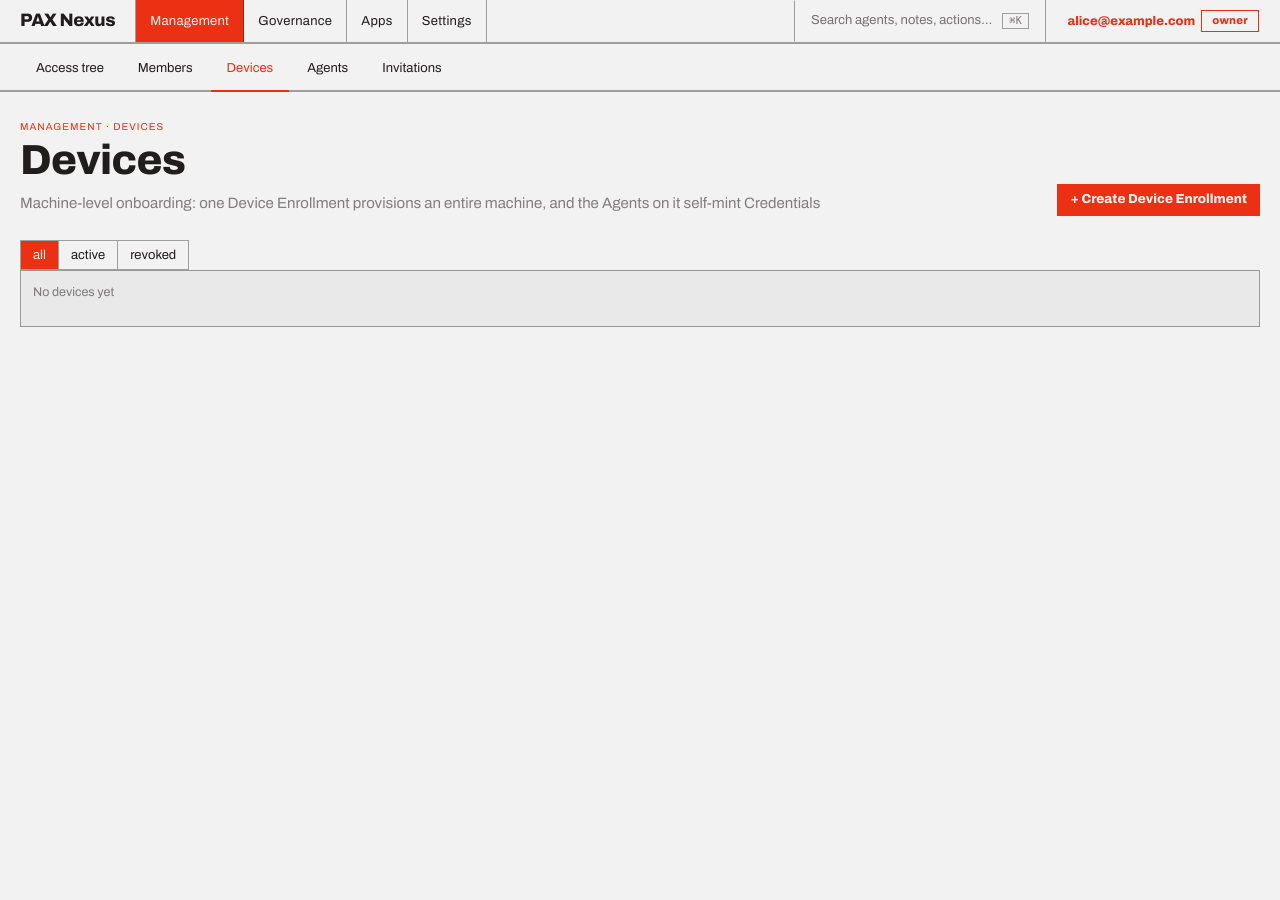
Test: Devices list + device enrollment creation › rejects an empty device_name locally without issuing a request
The image size is (1280, 900).
What coordinates should you click on to do the following:
click the button "+ Create Device Enrollment"
I would click on:
 (1159, 200)
Its box is [1058,184,1260,216].
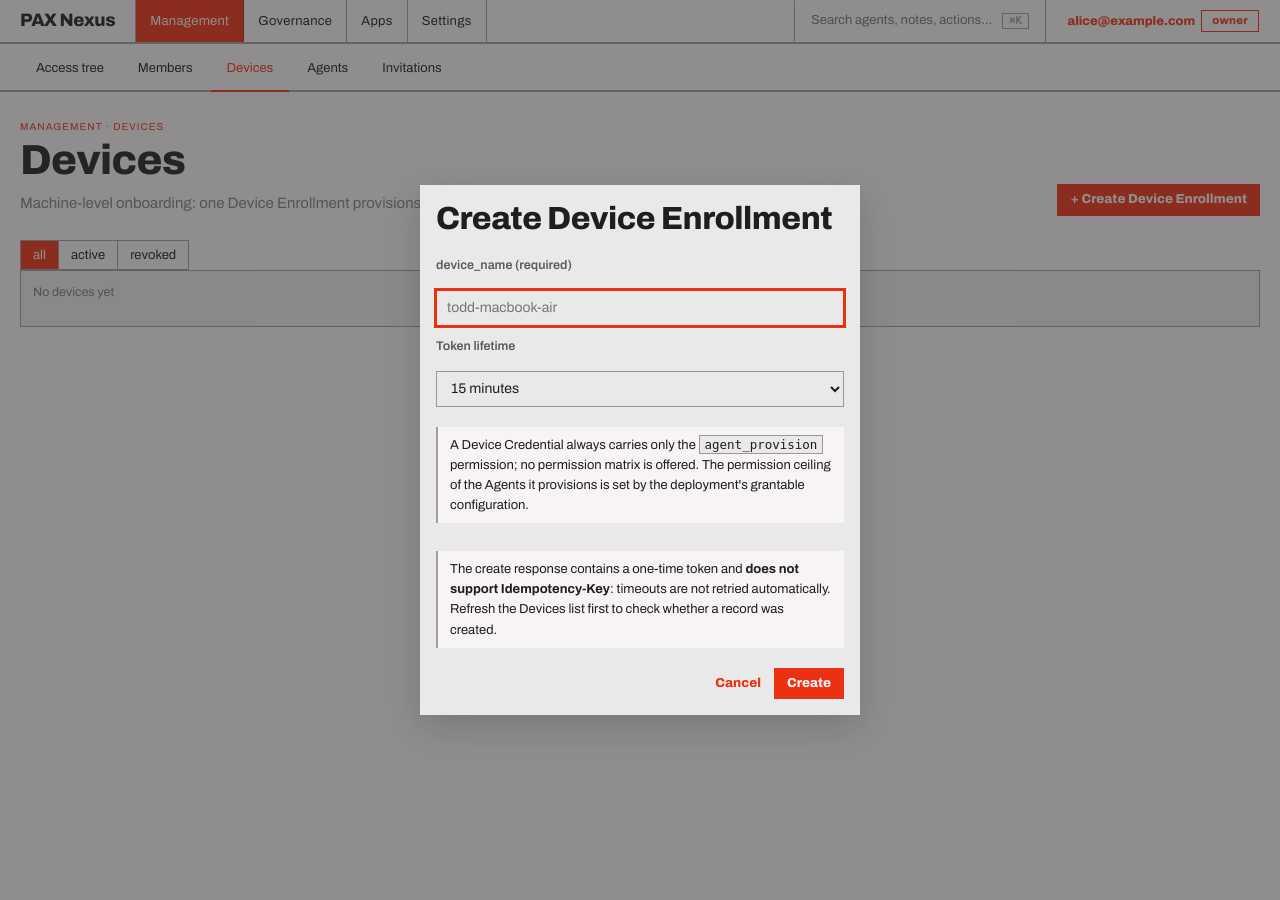
What coordinates should you click on to do the following:
click the button "Create"
I would click on:
 (809, 683)
Its box is [774,668,844,699].
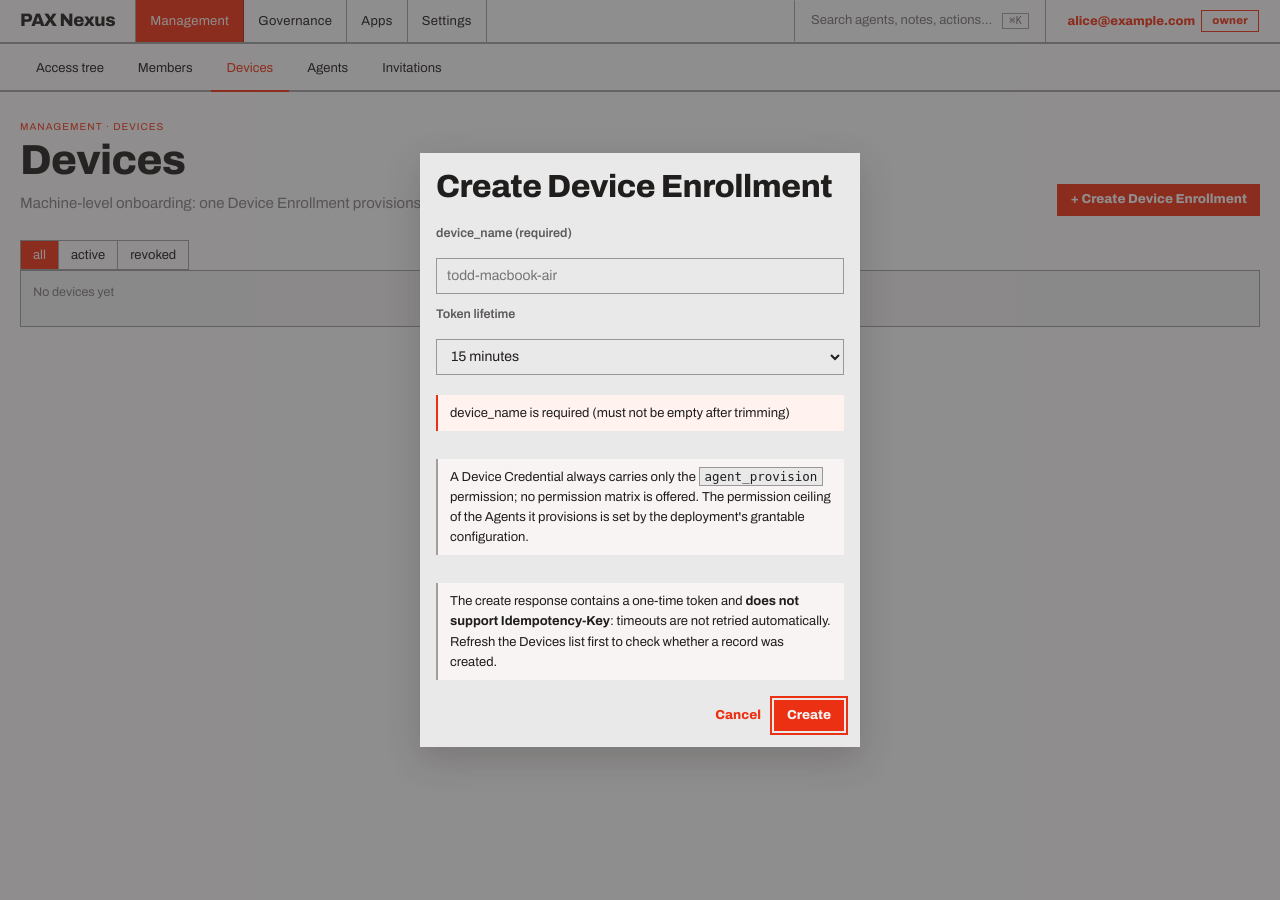
Now the text "device_name is required (must not be empty after trimming)" is shown, box [436,395,844,431]
